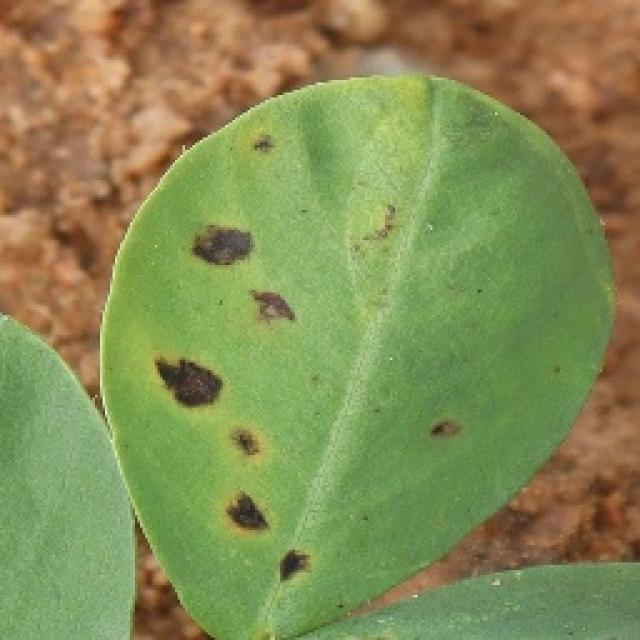Yellowish: (130, 123, 333, 613), (412, 354, 500, 491), (349, 174, 419, 275)
